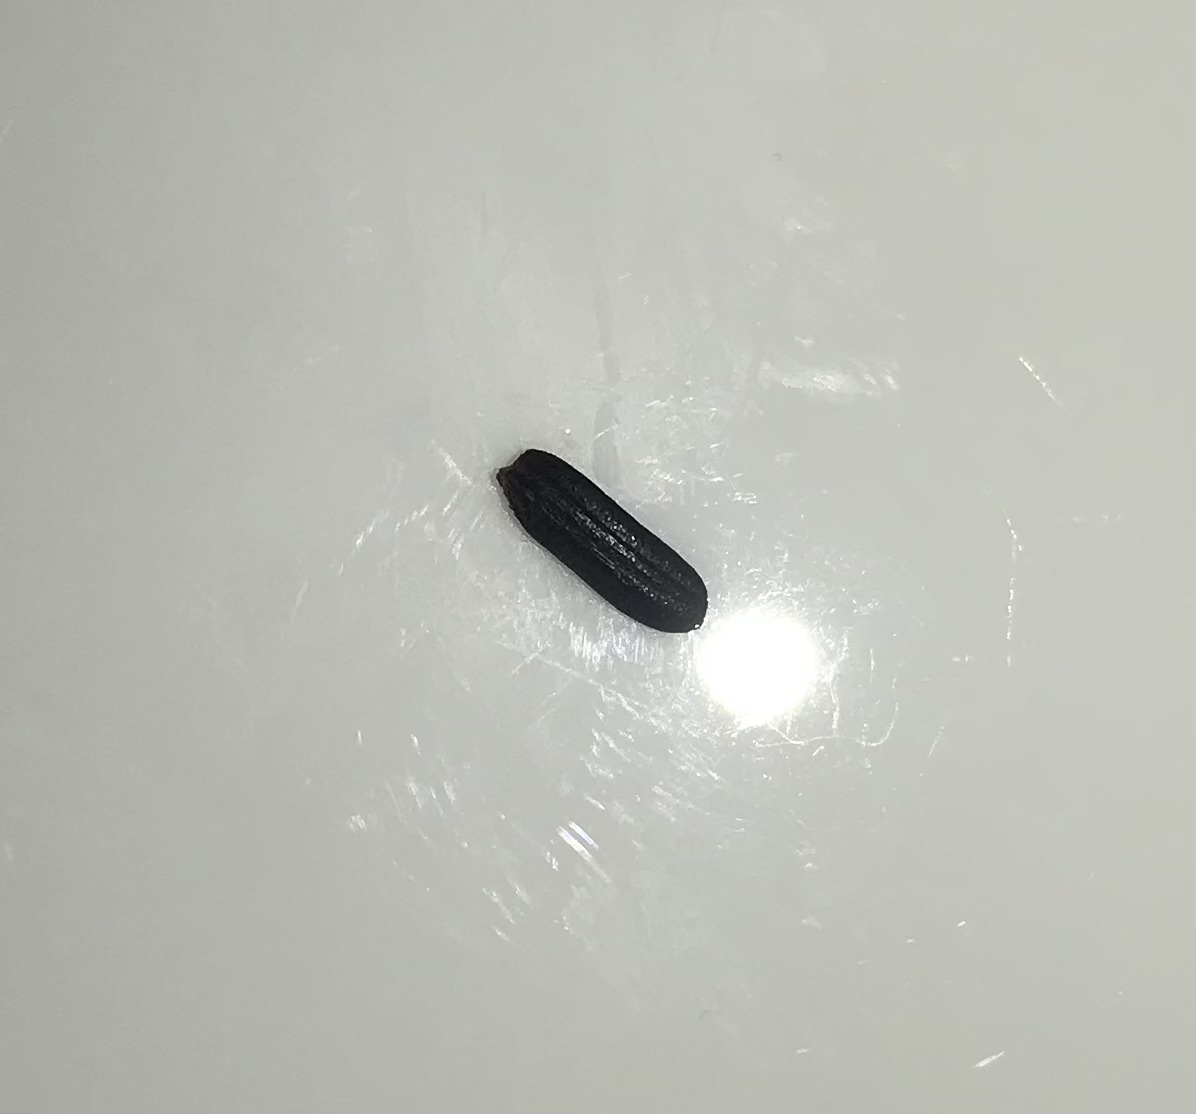Gao lut: (488, 452, 709, 640)
